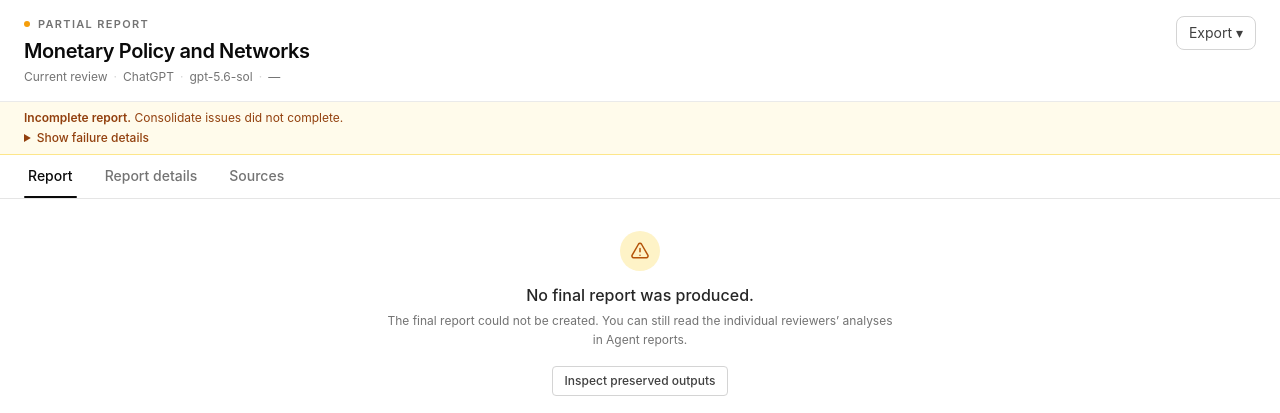
Test: ReportWorkspace › does not present a specialist analysis as the report when synthesis failed
Expected: the text "No final report was produced." is shown, [526,284,754,304]
Expected: the text "You can still read the individual reviewers’ analyses in Agent reports" is shown, [387,312,892,347]
Click the button "Inspect preserved outputs": click(640, 380) [552,366,728,396]
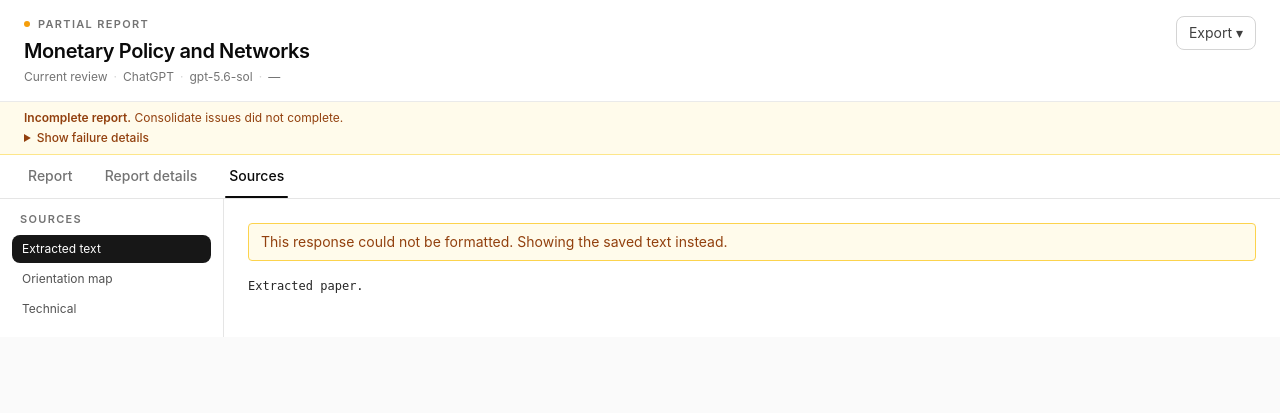
Expected: the button "Technical" is shown, [12,295,211,323]
